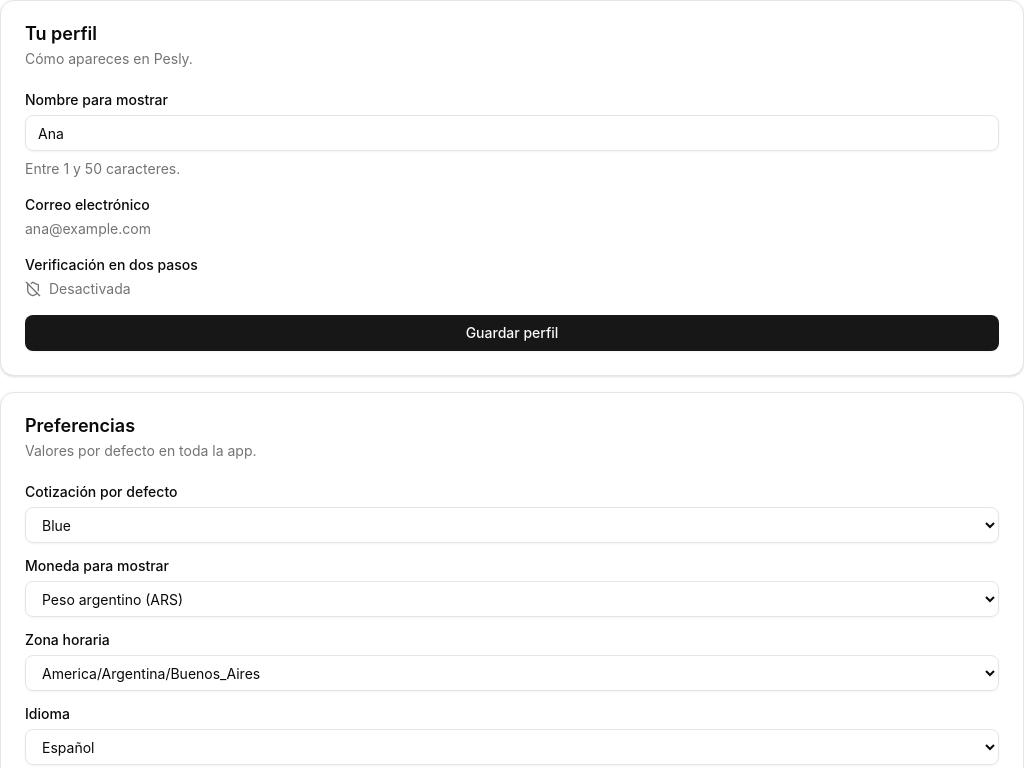
ProfileContainer › shows a 400 as the generic message above the form and keeps the previous name (AC-03)
Step 1. Replace the text in the field labelled "Nombre para mostrar" with "Beatriz" → (512, 133), box [25,115,999,151]
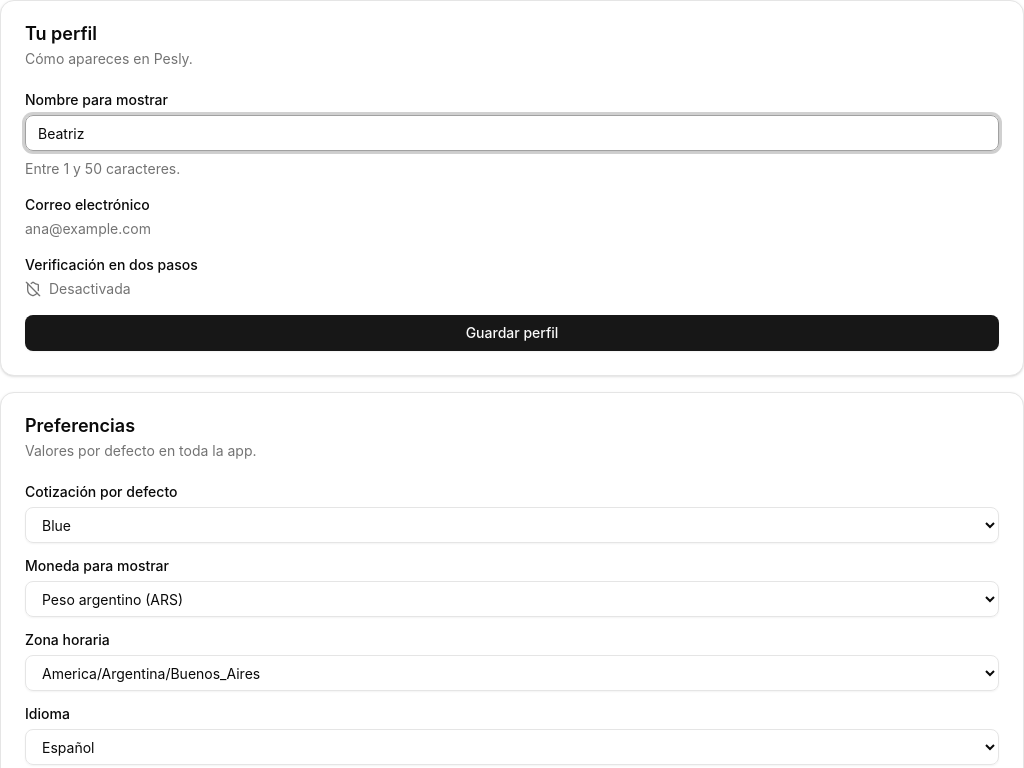
Step 2. Click the button "Guardar perfil" → (512, 333), box [25,315,999,351]
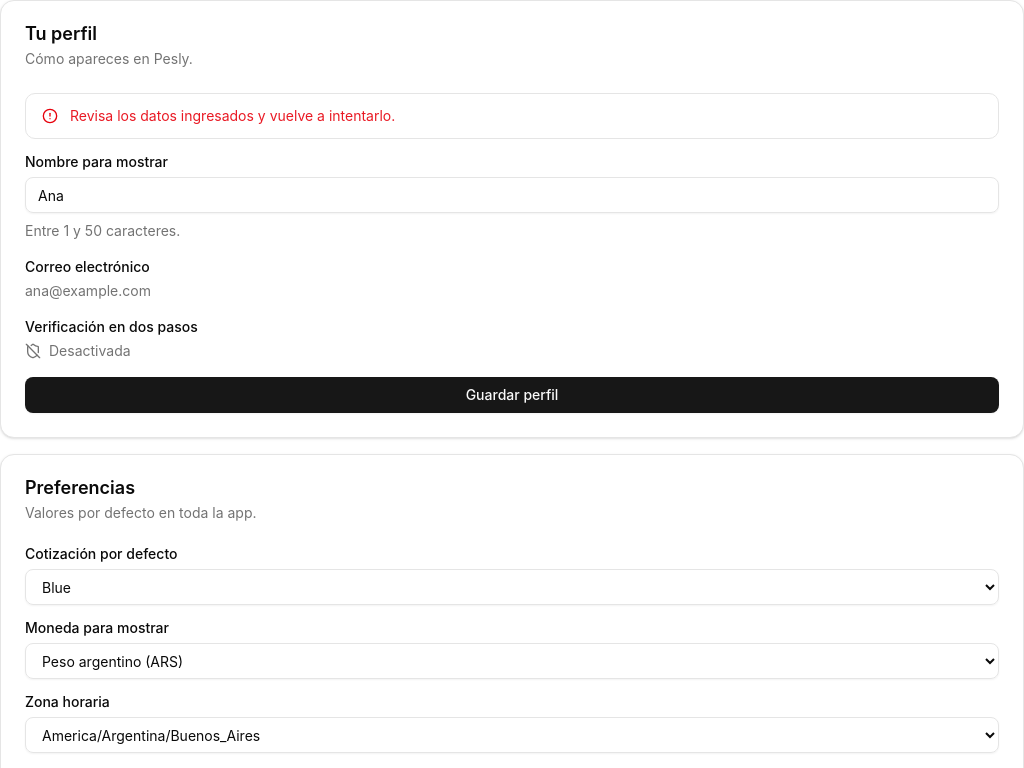
Expected: the field labelled "Nombre para mostrar" holds "Ana", [25,177,999,213]
